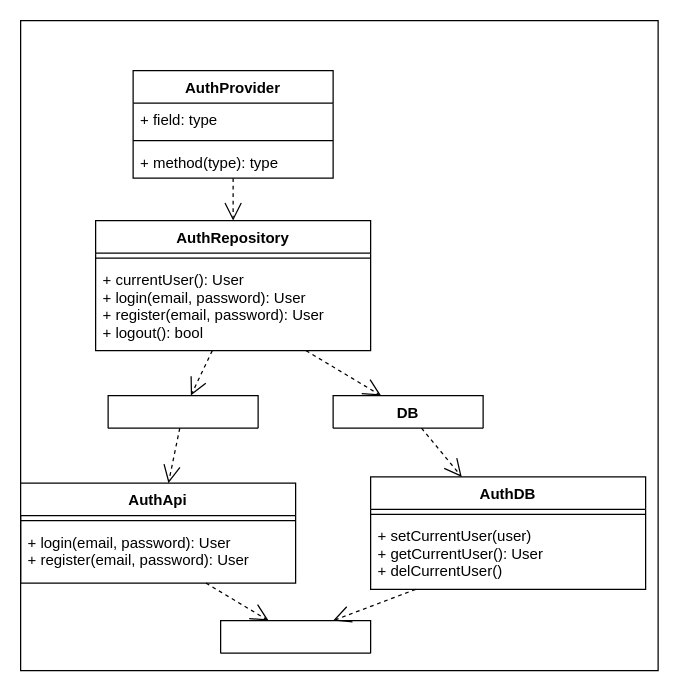
Some shapes in this 679 by 691 pixel diagram are drawn without their labels. Here are the shapes that lost their labels. From the top down, the centre of each, then its label:
At (x=182, y=411): "Api".
At (x=295, y=636): "SharedStorage".
